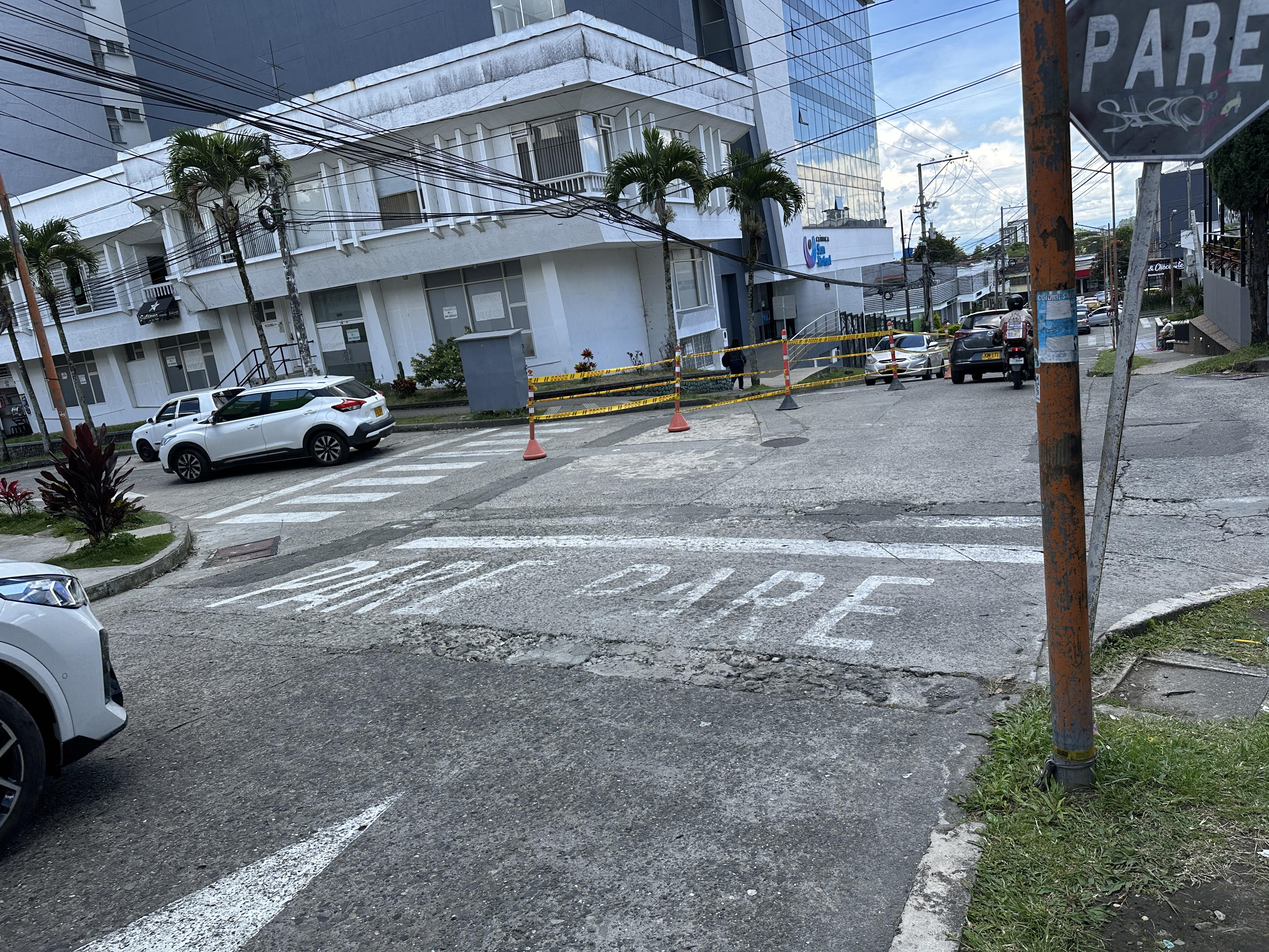bache: (375, 622, 998, 712), (905, 501, 941, 512)
grieta: (1113, 448, 1192, 503), (1194, 509, 1269, 535)
registro: (761, 437, 809, 448)
rejilla: (201, 536, 280, 569)
